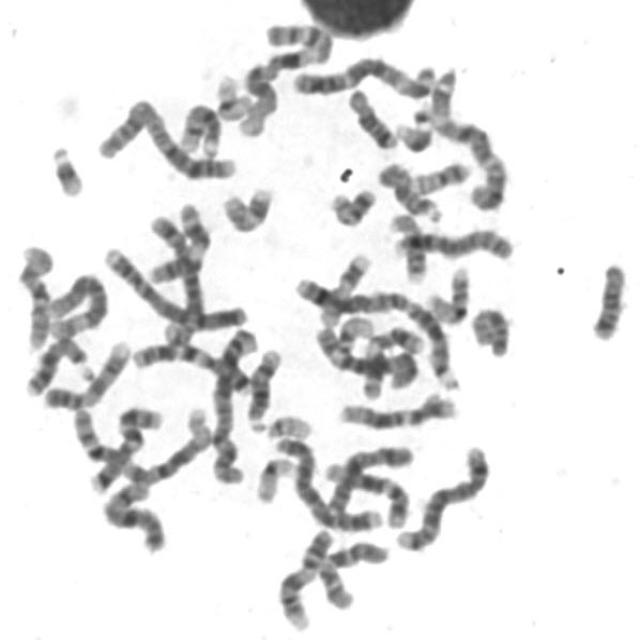A1: (71, 398, 217, 490), (234, 14, 338, 139)
A2: (92, 91, 241, 182), (208, 326, 259, 485)
A3: (426, 59, 513, 213), (287, 52, 442, 101)
B4: (98, 240, 252, 334), (270, 428, 390, 534)
B5: (390, 437, 494, 554), (143, 206, 211, 349)
C10: (313, 533, 394, 613), (13, 237, 58, 353)
C11: (143, 196, 214, 286), (359, 326, 427, 401)
C12: (319, 454, 414, 530), (334, 386, 461, 432)
C6: (309, 318, 422, 389), (43, 267, 111, 340)
C7: (126, 335, 257, 397), (86, 400, 167, 496)
C8: (387, 222, 518, 264), (291, 276, 408, 314)
C9: (38, 332, 135, 412), (273, 522, 339, 634)
D13: (404, 300, 460, 393), (20, 330, 94, 398)
D14: (242, 340, 286, 434), (174, 95, 225, 158)
D15: (373, 156, 448, 224), (471, 306, 511, 358)
E16: (386, 206, 432, 284), (420, 259, 473, 326)
E17: (314, 246, 376, 328), (217, 180, 277, 234)
E18: (342, 82, 402, 151), (586, 255, 632, 343)
F19: (252, 450, 300, 505), (211, 67, 256, 123)
F20: (408, 154, 475, 196), (324, 181, 380, 229)
G21: (45, 137, 89, 200), (392, 100, 438, 154)
G22: (330, 310, 378, 353), (260, 407, 316, 441)
X: (320, 438, 416, 518), (98, 476, 172, 556)
